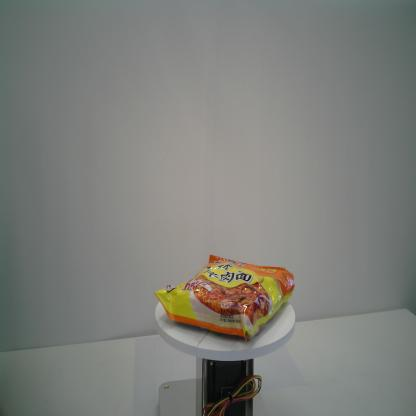Instant Noodles: (154, 254, 295, 343)
